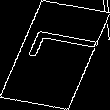L_E: (12, 33, 98, 77)
